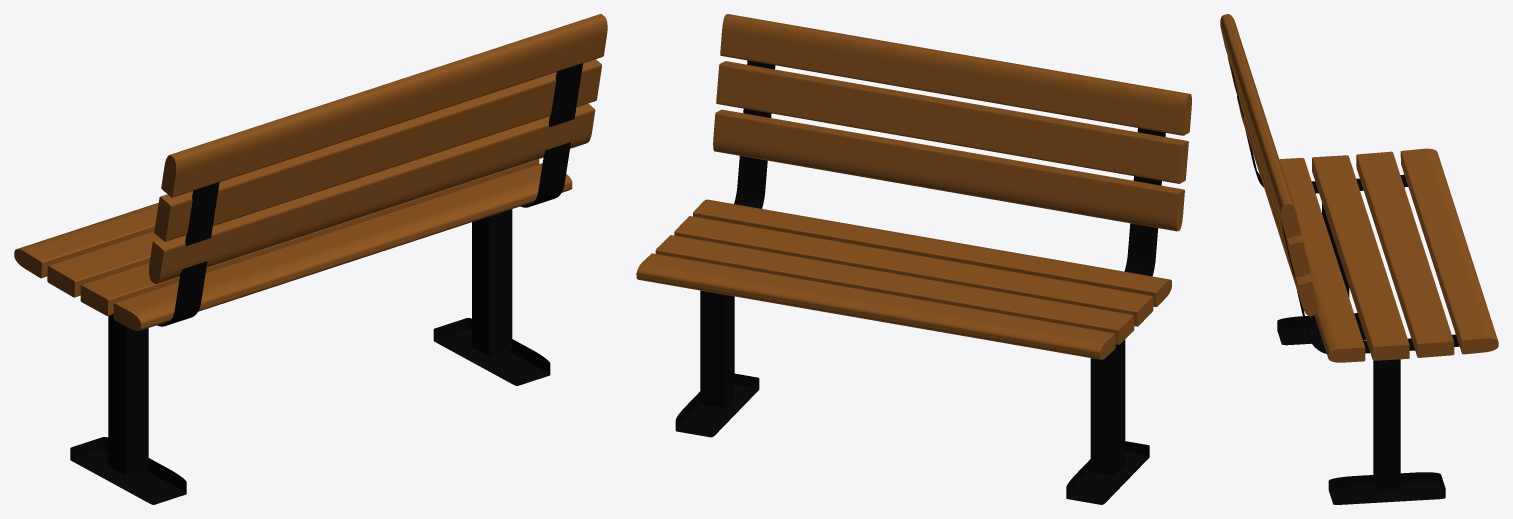
The model's file is ParkBench_plain.fbx.
3 views of the same model, side by side, from view 1: azimuth 30°, elevation 25°; view 2: azimuth 150°, elevation 25°; view 3: azimuth 270°, elevation 25° (orthographic). The views are drawn at different scales.
Parts seen in each view (by area): view 1: Cube.008, Cube.001, Cube.007; view 2: Cube.008, Cube.001, Cube.007; view 3: Cube.008, Cube.007, Cube.001.
Part boxes in pixels (left/top/right/bottom): Cube.008: left=14, top=14, right=607, bottom=330; Cube.001: left=70, top=182, right=219, bottom=504; Cube.007: left=433, top=63, right=582, bottom=385; Cube.008: left=636, top=14, right=1191, bottom=359; Cube.001: left=1066, top=128, right=1165, bottom=504; Cube.007: left=675, top=60, right=775, bottom=437; Cube.008: left=1220, top=14, right=1498, bottom=362; Cube.007: left=1281, top=222, right=1459, bottom=504; Cube.001: left=1229, top=62, right=1408, bottom=345.
Bounding box in the file's own units: 639 × 459 × 372.
